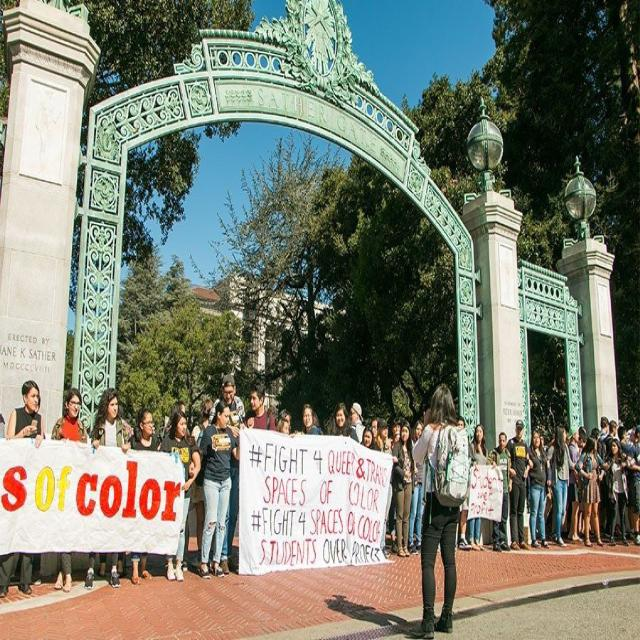body: (404, 378, 472, 639), (0, 379, 46, 599), (186, 398, 241, 582), (84, 387, 131, 590), (205, 371, 248, 576), (48, 387, 89, 595), (5, 387, 44, 587), (120, 405, 162, 586), (159, 408, 202, 582), (162, 398, 191, 573), (544, 422, 580, 548), (390, 416, 419, 557), (370, 417, 399, 556), (190, 397, 214, 563), (154, 389, 305, 415), (503, 417, 532, 552), (524, 427, 555, 551), (602, 437, 636, 547), (574, 432, 606, 548), (486, 430, 513, 554), (385, 414, 408, 553), (406, 417, 425, 556), (468, 422, 488, 550), (575, 501, 635, 541), (566, 423, 585, 544), (589, 414, 640, 457), (624, 425, 640, 546), (242, 379, 276, 434), (326, 402, 360, 444), (94, 550, 131, 582), (346, 400, 366, 444), (299, 403, 325, 435), (359, 424, 380, 452), (118, 415, 137, 439), (276, 407, 294, 427), (274, 417, 291, 437), (578, 425, 590, 452), (310, 411, 324, 434), (421, 408, 434, 430), (370, 415, 381, 439), (0, 410, 6, 442), (563, 427, 573, 446), (536, 429, 546, 446), (455, 415, 466, 430)
